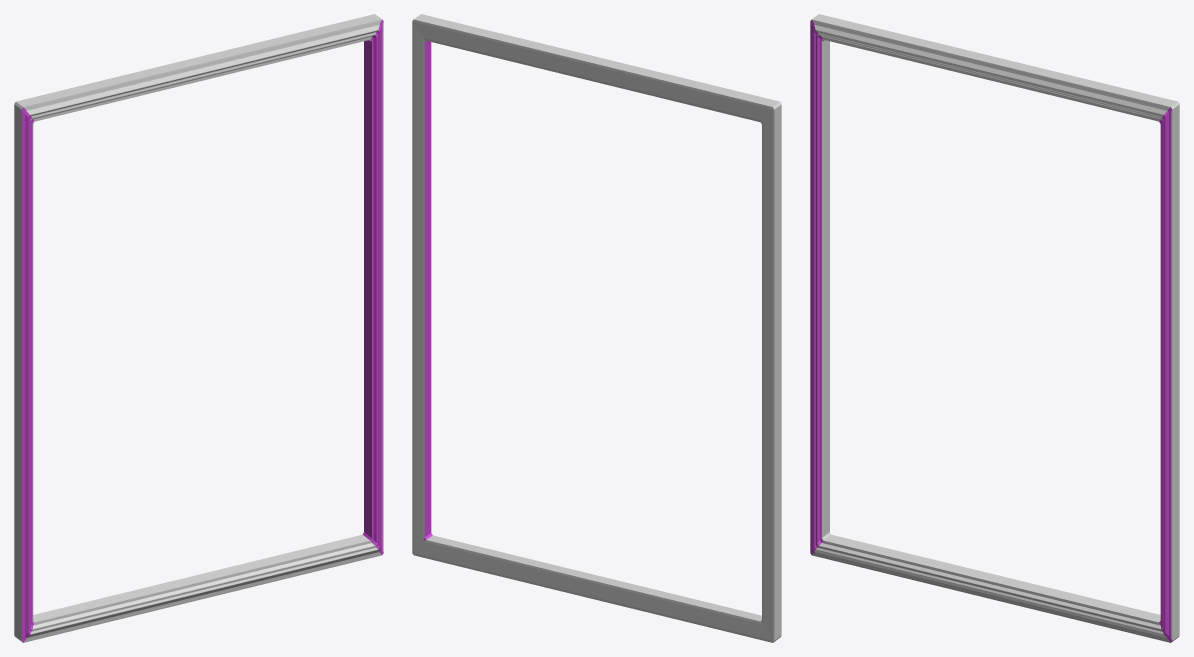
Rendered from Mirror.fbx.
The picture shows the model from 3 angles, left to right: view 1: azimuth 30°, elevation 25°; view 2: azimuth 150°, elevation 25°; view 3: azimuth 330°, elevation 25°; orthographic projection.
Parts seen in each view (by area): view 1: Rahmen; view 2: Rahmen; view 3: Rahmen.
Boxes of the visible parts, x1=… form: Rahmen: x1=14, y1=14, x2=383, y2=642; Rahmen: x1=412, y1=14, x2=781, y2=642; Rahmen: x1=810, y1=14, x2=1179, y2=642.
Size of the model in its own units: 86.45 by 122 by 3.75.
